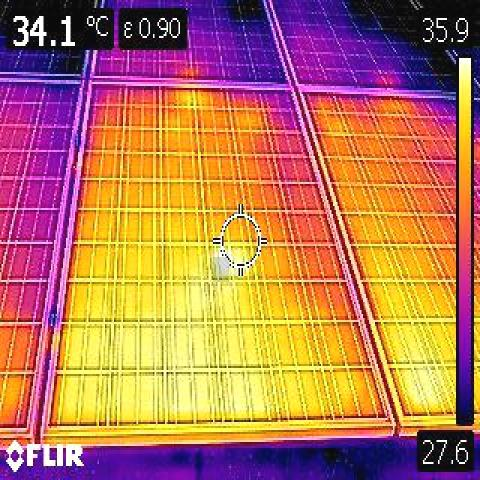fault: (213, 257, 229, 282)
